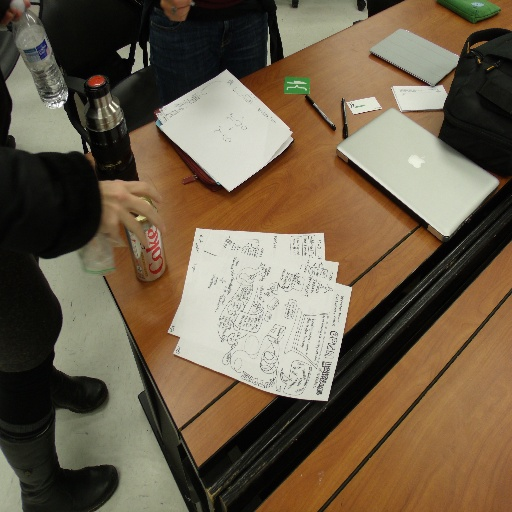hand: (85, 170, 160, 260), (2, 0, 30, 26), (160, 0, 189, 21)
